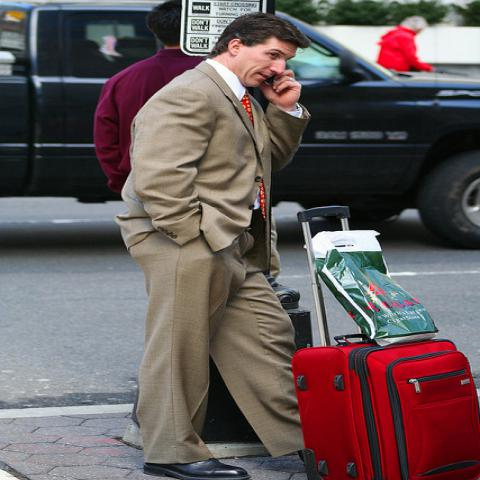truck: (0, 3, 479, 251)
